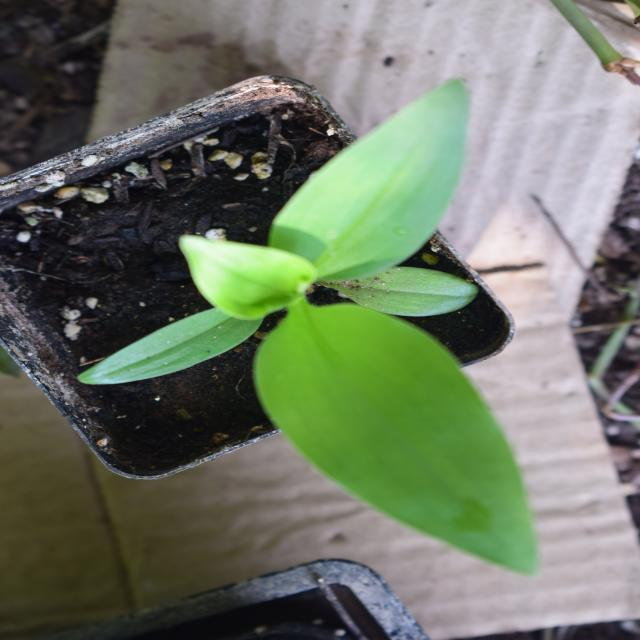Common Dayflower: (88, 131, 552, 507)
